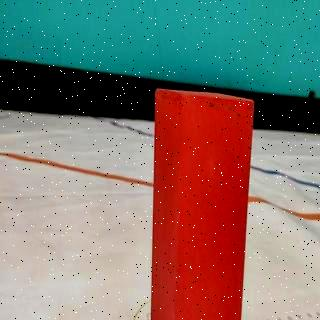redbox: (150, 88, 255, 320)
